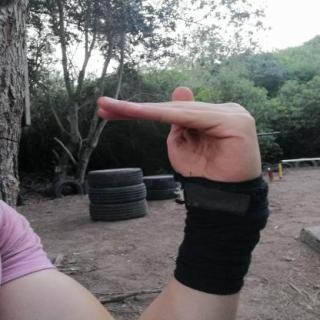KHAA: (76, 77, 280, 194)
